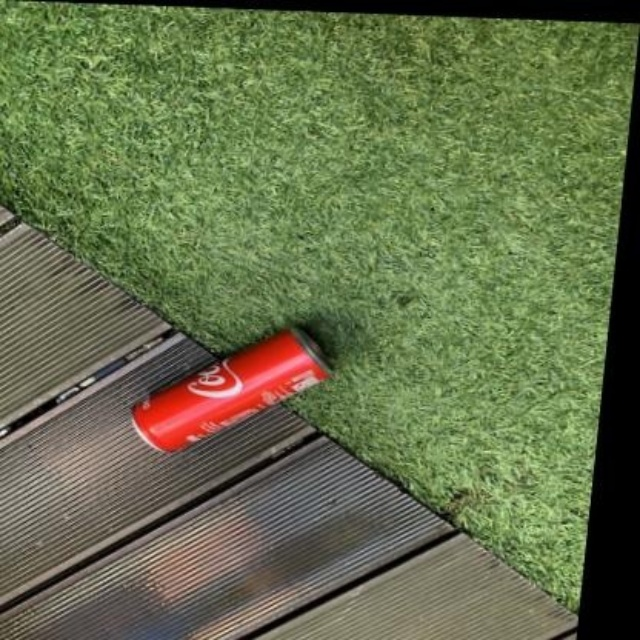trash: (132, 329, 329, 451)
